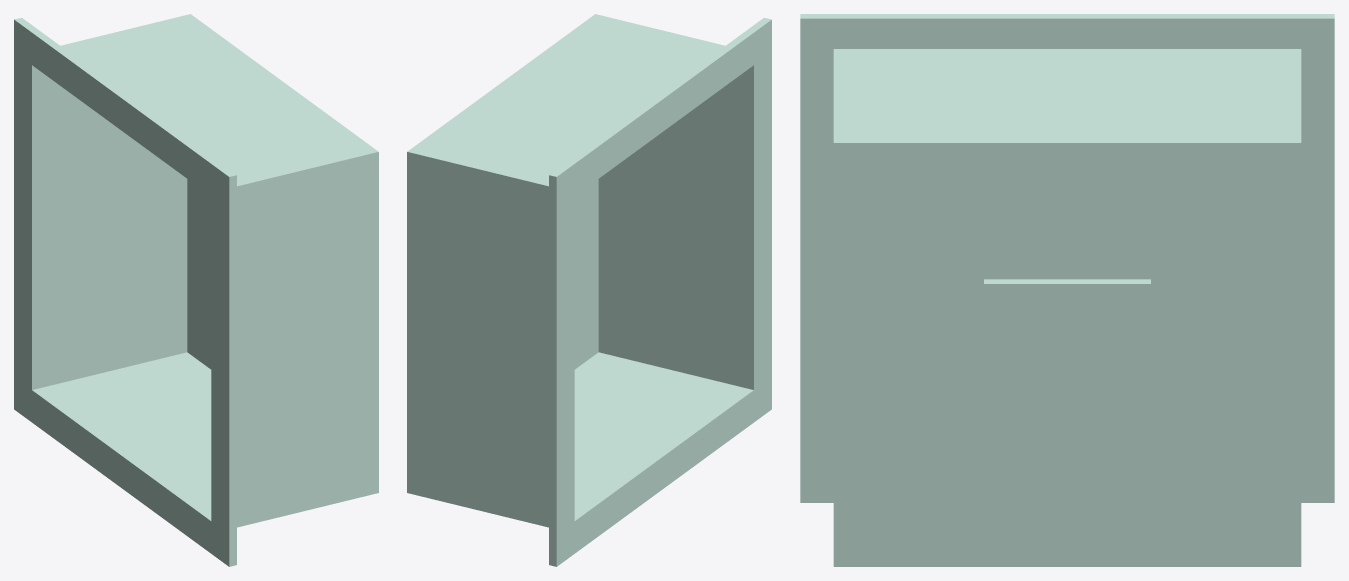
3 views of the same model, side by side, from view 1: azimuth 30°, elevation 25°; view 2: azimuth 150°, elevation 25°; view 3: azimuth 270°, elevation 25° (orthographic). The views are drawn at different scales.
Visible parts, largest first — view 1: Renderer Node; view 2: Renderer Node; view 3: Renderer Node.
Part boxes in pixels (x1,y1,x2,y2): Renderer Node: (14,14,378,566); Renderer Node: (407,14,771,566); Renderer Node: (800,14,1334,566).
Size of the model in its own units: 0.6875 by 1.5 by 1.5.
